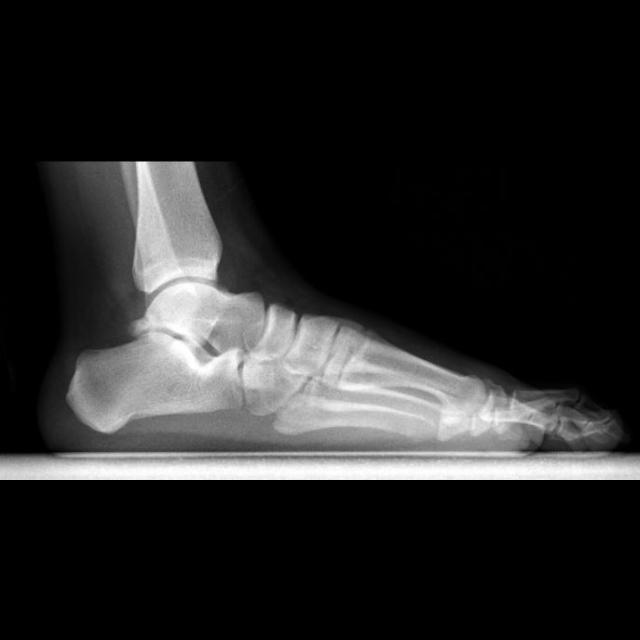a: (65, 332, 245, 434)
b: (251, 303, 297, 362)
c: (337, 330, 488, 416)
